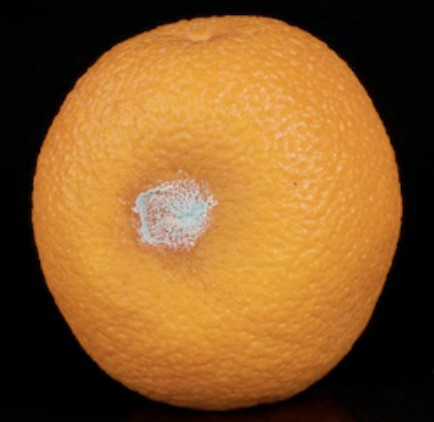rotten_orange: (34, 17, 398, 408)
